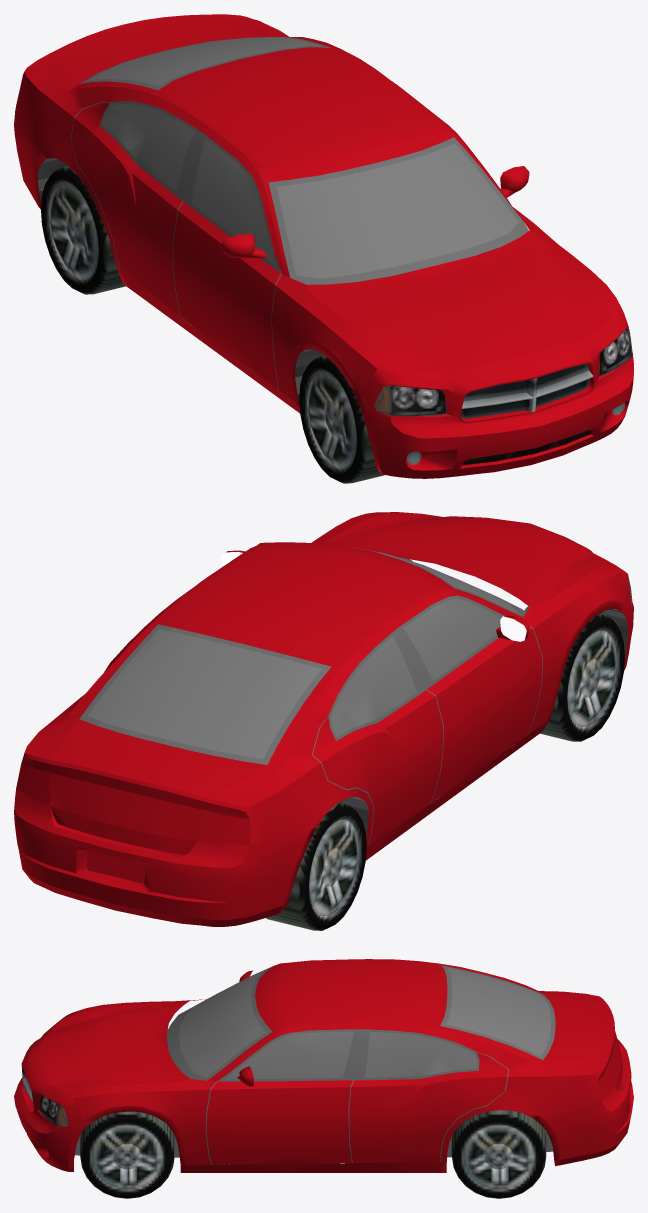
Rendered from red_car.gltf.
3 renders of one model, top to bottom at view 1: azimuth 30°, elevation 25°; view 2: azimuth 150°, elevation 25°; view 3: azimuth 270°, elevation 25°, orthographic. The views are drawn at different scales.
Visible parts, largest first — view 1: Red_Car001, Object045, Object043, Object042, Object044; view 2: Red_Car001, Object045, Object043, Object044, Object042; view 3: Red_Car001, Object045, Object043, Object044, Object042.
Boxes of the visible parts, x1=… form: Red_Car001: x1=14, y1=14, x2=633, y2=478; Object045: x1=80, y1=37, x2=528, y2=284; Object043: x1=41, y1=165, x2=384, y2=483; Object042: x1=38, y1=178, x2=632, y2=465; Object044: x1=16, y1=14, x2=257, y2=109; Red_Car001: x1=14, y1=512, x2=633, y2=926; Object045: x1=79, y1=547, x2=525, y2=764; Object043: x1=266, y1=613, x2=624, y2=930; Object044: x1=16, y1=746, x2=259, y2=845; Object042: x1=221, y1=552, x2=632, y2=641; Red_Car001: x1=14, y1=959, x2=633, y2=1172; Object045: x1=166, y1=965, x2=555, y2=1081; Object043: x1=80, y1=1110, x2=546, y2=1198; Object044: x1=587, y1=994, x2=614, y2=1102; Object042: x1=21, y1=971, x2=253, y2=1126.
Bounding box in the file's own units: 1.74 × 1.28 × 4.26.
Materials: 5 (2 with a texture image).
